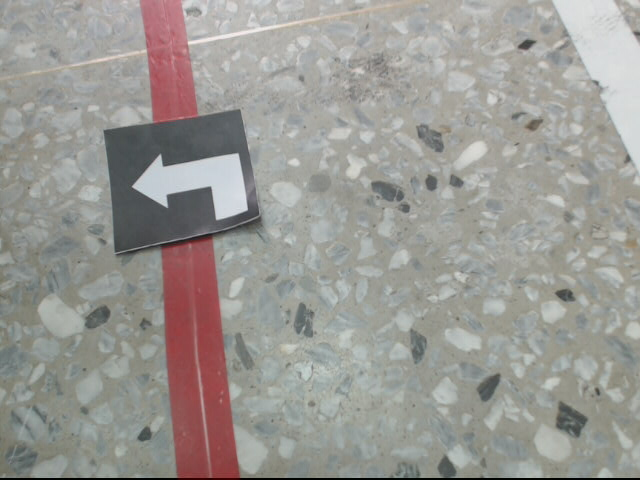left: (104, 109, 262, 250)
